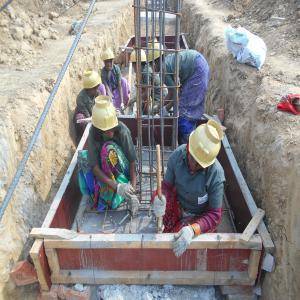yellow: (188, 122, 220, 174), (94, 94, 118, 141), (147, 41, 168, 74), (85, 68, 102, 96), (131, 47, 147, 73), (103, 48, 115, 71)
